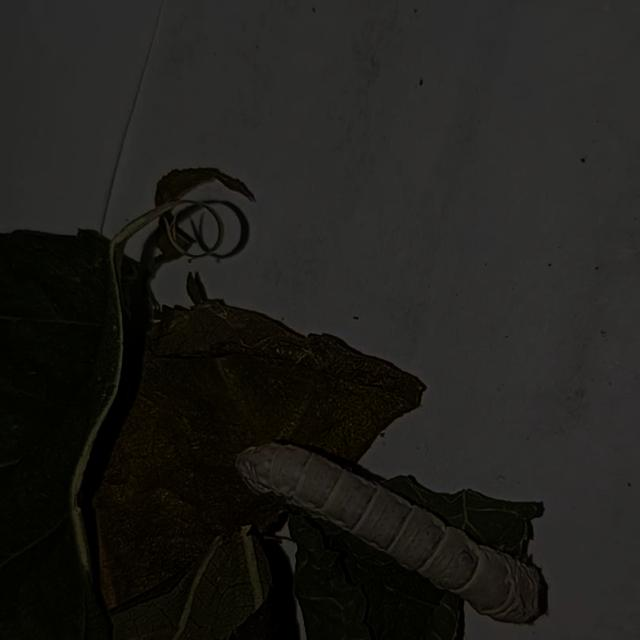Healthy: (226, 432, 557, 627)
